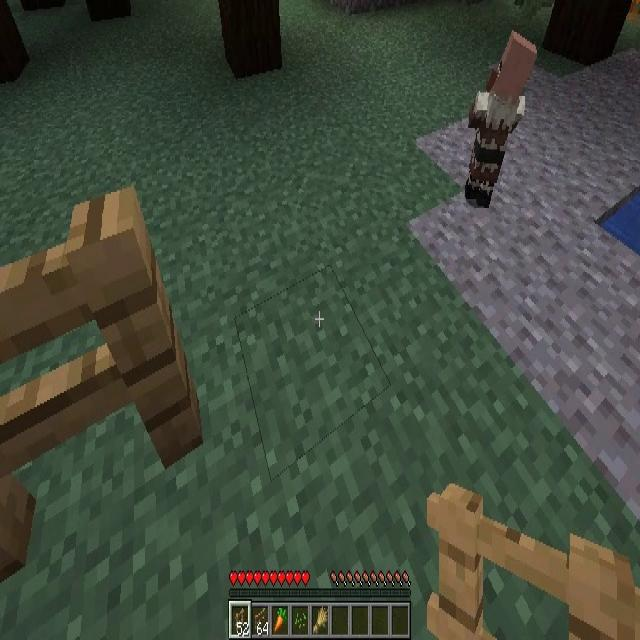people: (464, 30, 536, 210)
